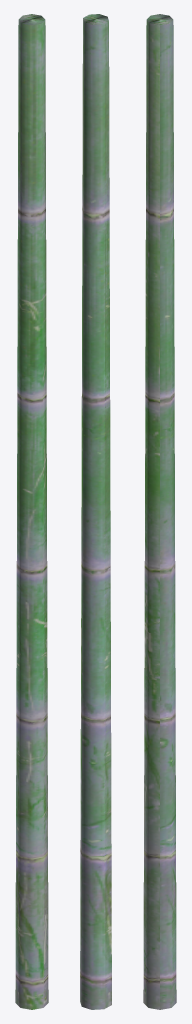
File: bambooRod1.fbx
The picture shows the model from 3 angles, left to right: view 1: azimuth 90°, elevation 25°; view 2: azimuth 210°, elevation 25°; view 3: azimuth 270°, elevation 25°; orthographic projection.
Parts seen in each view (by area): view 1: bamboo stick 1; view 2: bamboo stick 1; view 3: bamboo stick 1.
Boxes of the visible parts, <box> form: bamboo stick 1: <box>15,14,48,1009</box>; bamboo stick 1: <box>80,14,111,1009</box>; bamboo stick 1: <box>143,14,176,1009</box>.
Bounding box in the file's own units: 11.1 × 364 × 11.1.
